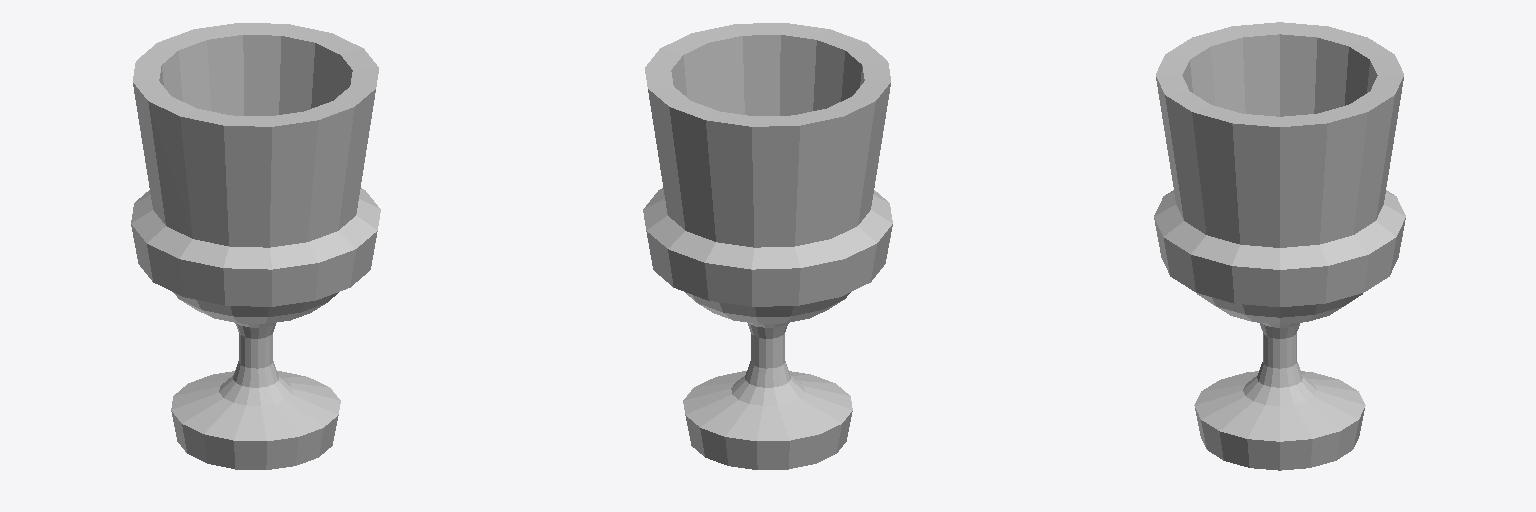
Rendered from goblet.obj.
3 renders of one model, left to right at view 1: azimuth 30°, elevation 25°; view 2: azimuth 150°, elevation 25°; view 3: azimuth 270°, elevation 25°, orthographic.
Visible parts, largest first — view 1: goblet_Cylinder.154; view 2: goblet_Cylinder.154; view 3: goblet_Cylinder.154.
Part boxes in pixels (left/top/right/bottom): goblet_Cylinder.154: left=131, top=23, right=380, bottom=469; goblet_Cylinder.154: left=643, top=23, right=892, bottom=469; goblet_Cylinder.154: left=1154, top=22, right=1405, bottom=470.
Bounding box in the file's own units: 0.345 × 0.5468 × 0.345.